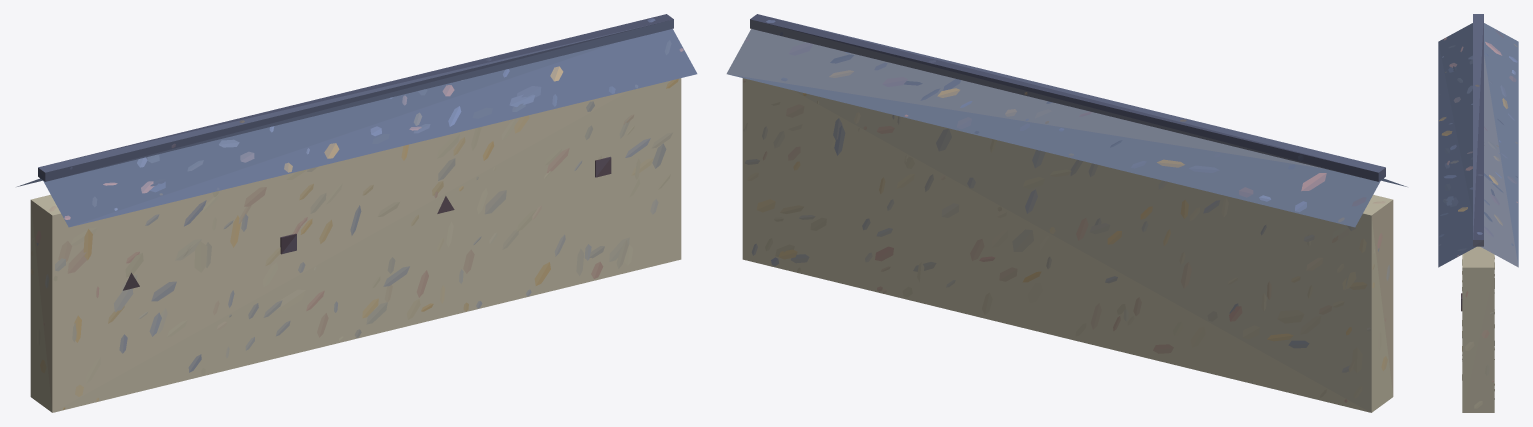
The model's file is HK_CastleWall.glb.
3 renders of one model, left to right at view 1: azimuth 30°, elevation 25°; view 2: azimuth 150°, elevation 25°; view 3: azimuth 270°, elevation 25°, orthographic. The views are drawn at different scales.
Visible parts, largest first — view 1: HK_CastleWall; view 2: HK_CastleWall; view 3: HK_CastleWall.
Part boxes in pixels (<box>): HK_CastleWall: <box>17,14,697,412</box>; HK_CastleWall: <box>726,14,1406,412</box>; HK_CastleWall: <box>1438,14,1518,412</box>.
Size of the model in its own units: 10.01 by 3.57 by 1.5.
